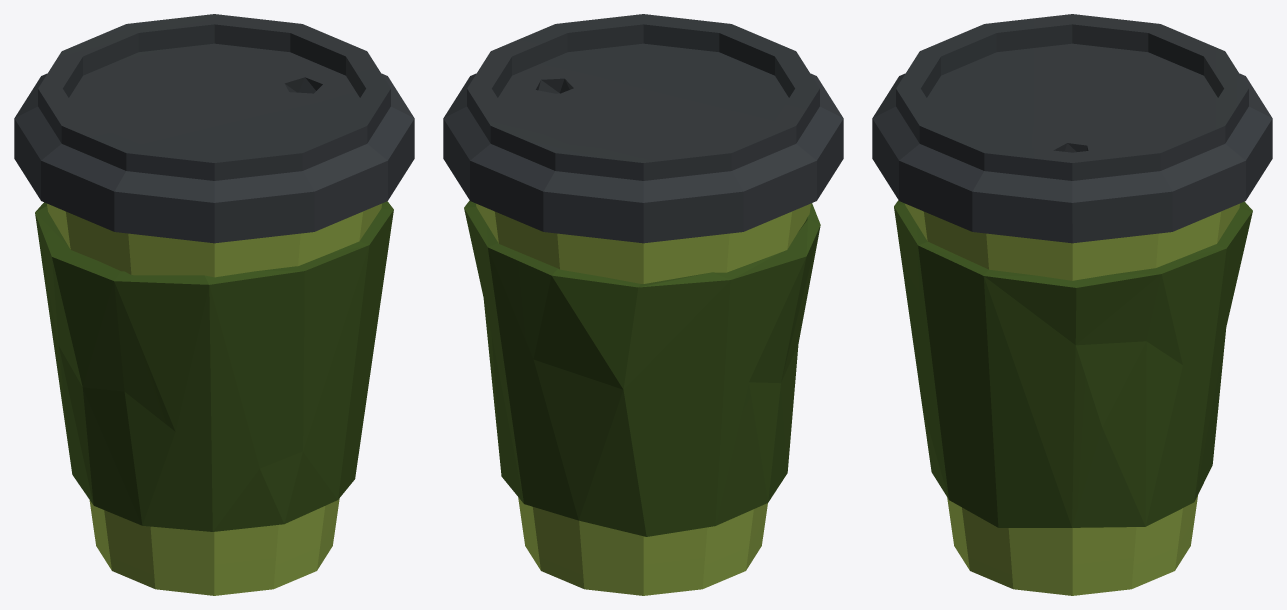
The model's file is Cup_01.fbx.
3 views of the same model, side by side, from view 1: azimuth 30°, elevation 25°; view 2: azimuth 150°, elevation 25°; view 3: azimuth 270°, elevation 25° (orthographic).
Parts seen in each view (by area): view 1: Cup_01; view 2: Cup_01; view 3: Cup_01.
Part boxes in pixels (x1=…): Cup_01: x1=14, y1=14, x2=414, y2=595; Cup_01: x1=443, y1=14, x2=843, y2=595; Cup_01: x1=872, y1=14, x2=1272, y2=595.
Size of the model in its own units: 0.1266 by 0.1596 by 0.1266.
